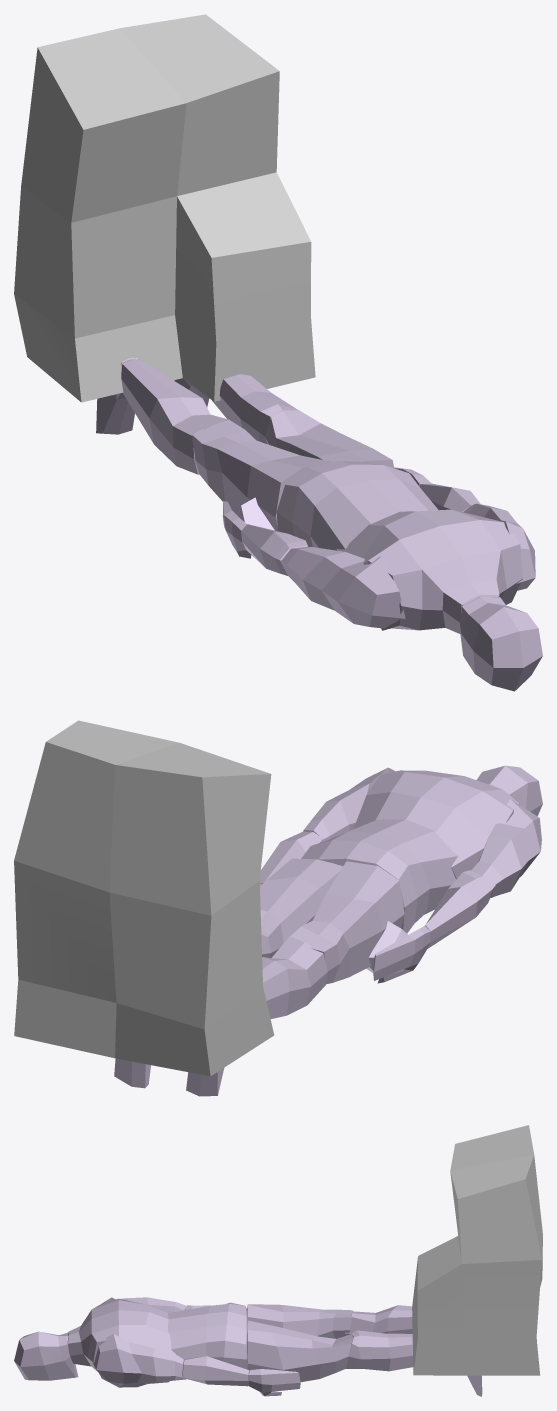
File: StatueBoss.fbx
3 views of the same model, one above another, from view 1: azimuth 30°, elevation 25°; view 2: azimuth 150°, elevation 25°; view 3: azimuth 270°, elevation 25° (orthographic). The views are drawn at different scales.
Parts seen in each view (by area): view 1: Pedestal, Andre; view 2: Pedestal, Andre, Apple; view 3: Andre, Pedestal.
Boxes of the visible parts, x1=… form: Pedestal: x1=14, y1=14, x2=315, y2=402; Andre: x1=96, y1=358, x2=542, y2=691; Pedestal: x1=14, y1=720, x2=274, y2=1076; Andre: x1=114, y1=765, x2=542, y2=1096; Apple: x1=366, y1=921, x2=407, y2=972; Andre: x1=14, y1=1297, x2=482, y2=1396; Pedestal: x1=412, y1=1125, x2=542, y2=1375.
Bounding box in the file's own units: 0.8237 × 1.34 × 2.73.
